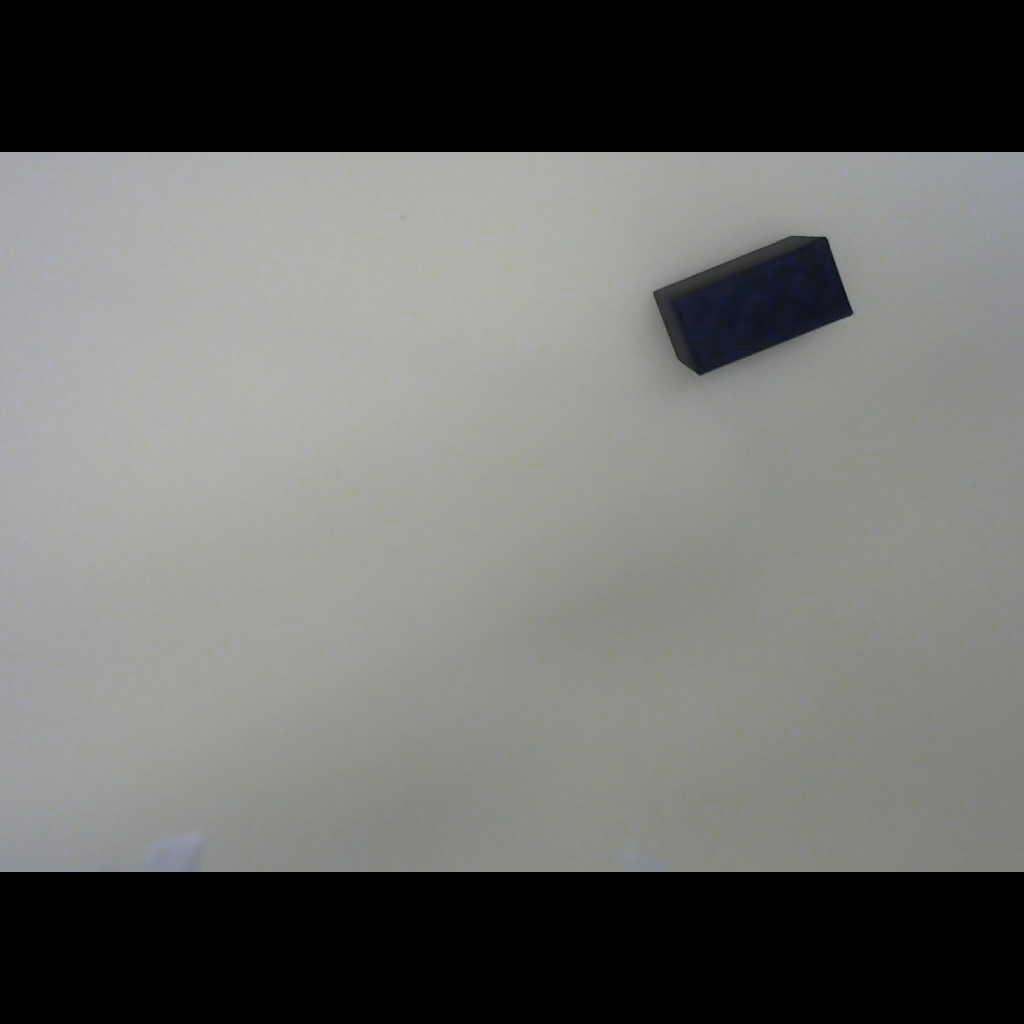rectangle: (632, 206, 873, 398)
